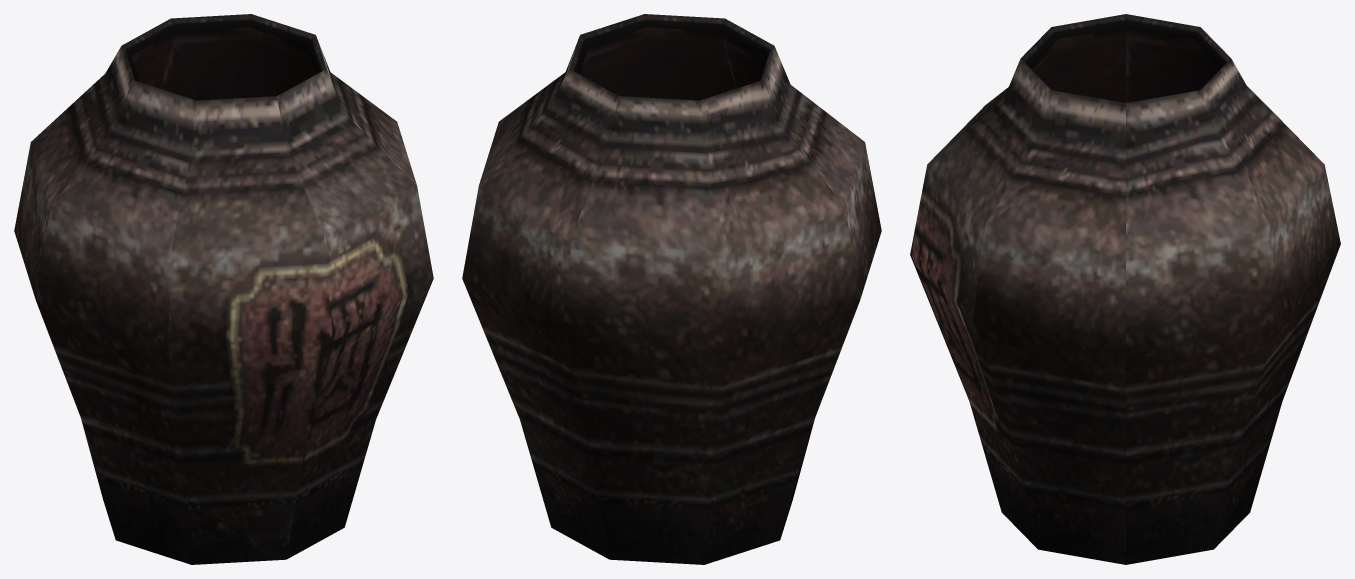
Rendered from ep_general_obj_jar_red01.fbx.
3 views of the same model, side by side, from view 1: azimuth 30°, elevation 25°; view 2: azimuth 150°, elevation 25°; view 3: azimuth 270°, elevation 25° (orthographic).
Parts seen in each view (by area): view 1: ep_general_obj_jar_red01; view 2: ep_general_obj_jar_red01; view 3: ep_general_obj_jar_red01.
Part boxes in pixels (bbox=[...]): ep_general_obj_jar_red01: bbox=[14, 14, 433, 564]; ep_general_obj_jar_red01: bbox=[462, 14, 881, 564]; ep_general_obj_jar_red01: bbox=[910, 14, 1340, 564].
Size of the model in its own units: 0.8414 by 0.976 by 0.8396.
